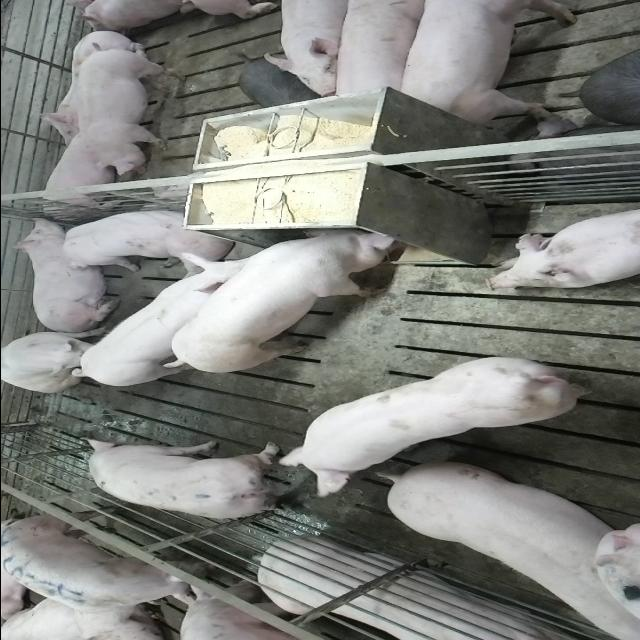Feeding: (169, 219, 404, 369)
Sitting: (59, 205, 231, 270), (0, 328, 111, 392)
Standing: (276, 350, 600, 494), (375, 458, 634, 635), (70, 258, 268, 390), (390, 2, 588, 126), (0, 516, 218, 616), (80, 436, 298, 522), (80, 48, 188, 178), (333, 2, 429, 102), (267, 0, 353, 99)
Sternal_lying: (239, 540, 589, 640), (483, 207, 640, 291), (5, 219, 117, 327), (34, 130, 130, 213)
